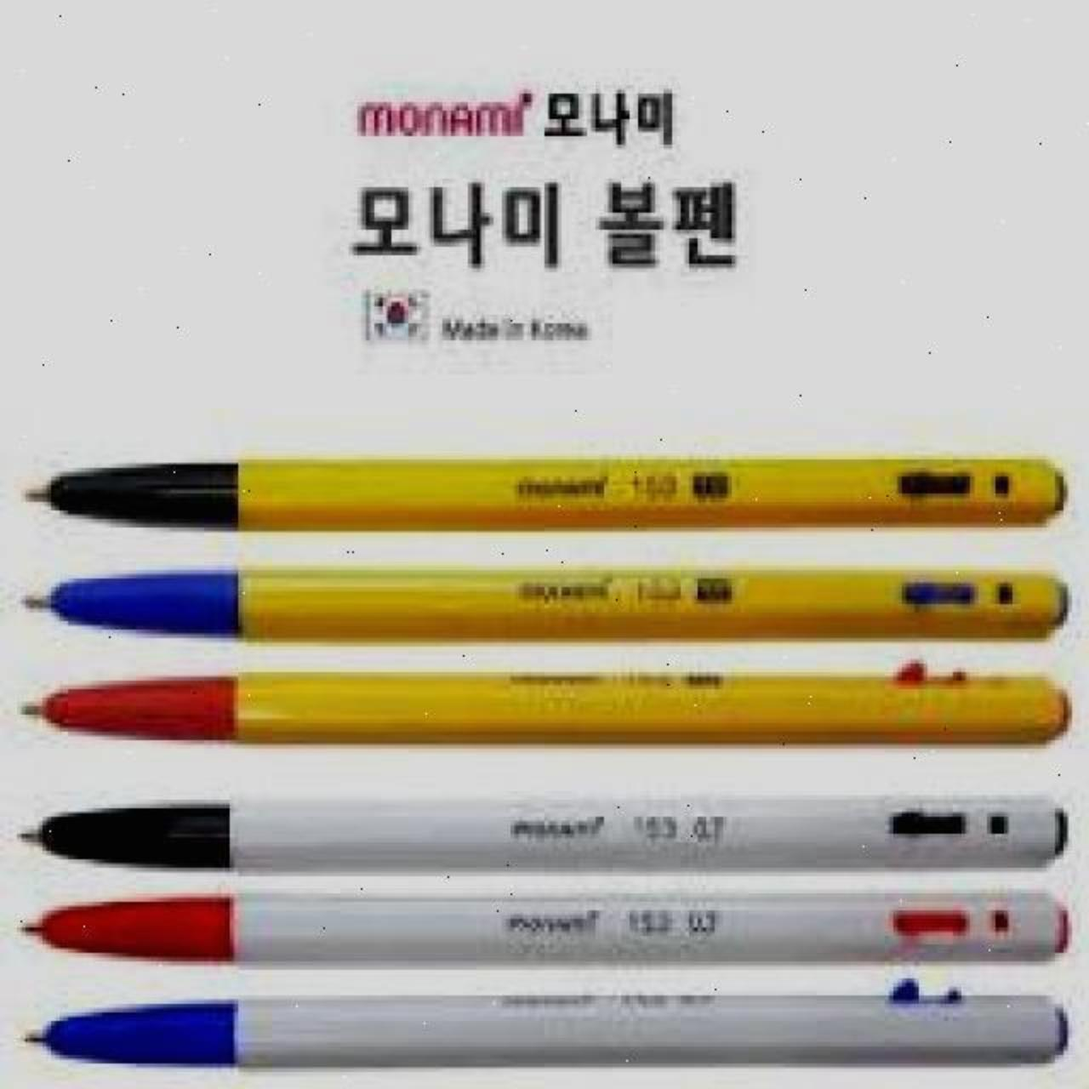pen: (14, 788, 1077, 878)
